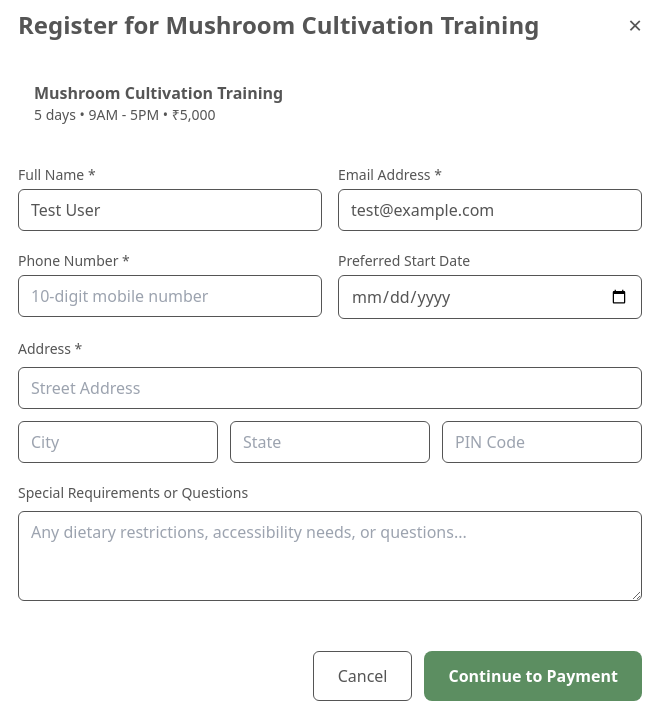
Test: RegistrationModal Validation › shows error for invalid phone number
The image size is (659, 718).
In the field with placeholder "10-digit mobile number": (170, 296) [18, 275, 322, 317], type "12345"
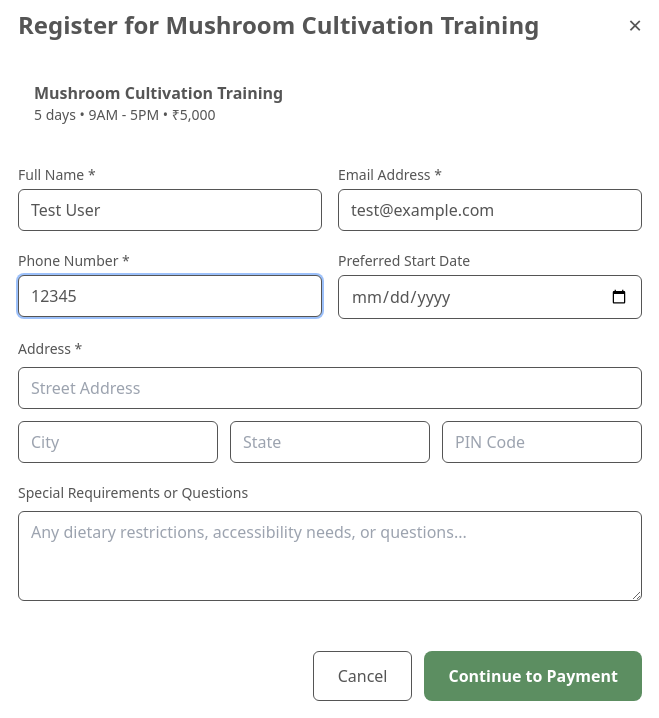
Click the button "Continue to Payment": (533, 676) [424, 651, 642, 701]
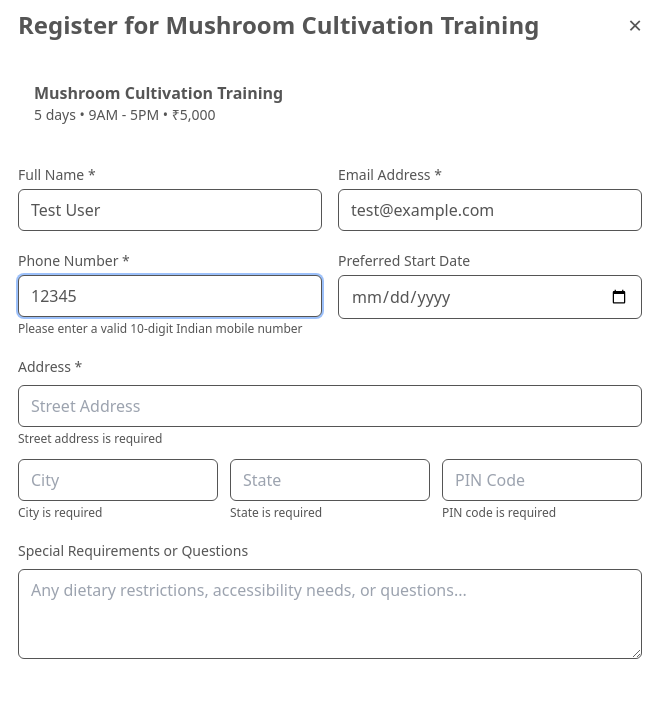
Expected: the text "Please enter a valid 10-digit Indian mobile number" is shown, [18, 321, 322, 337]
